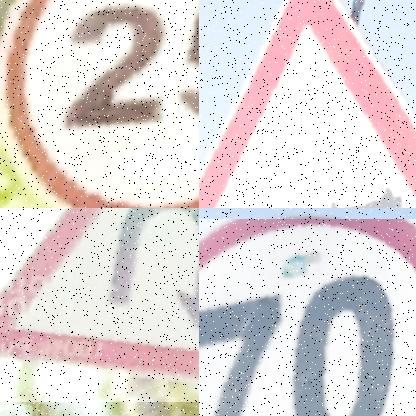Railway Crossing: (199, 0, 416, 208)
Speed Limit -70 kmph-: (199, 219, 416, 416)
U-Turn: (0, 208, 199, 385)
